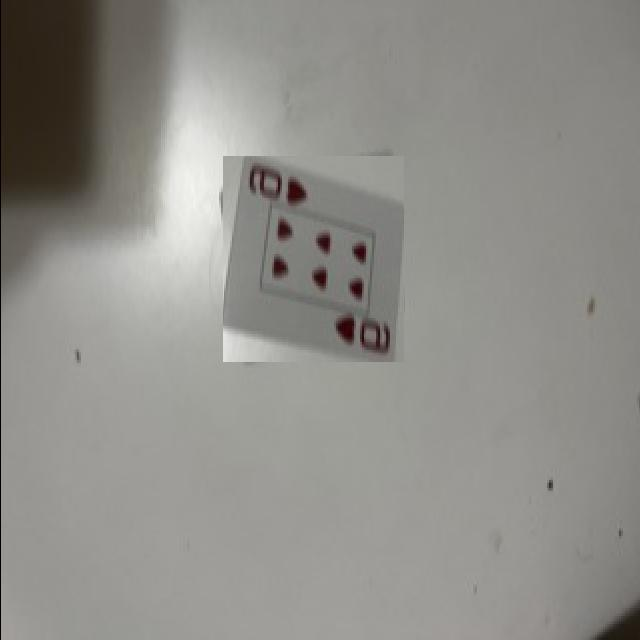6 of hearts: (222, 157, 403, 361)
